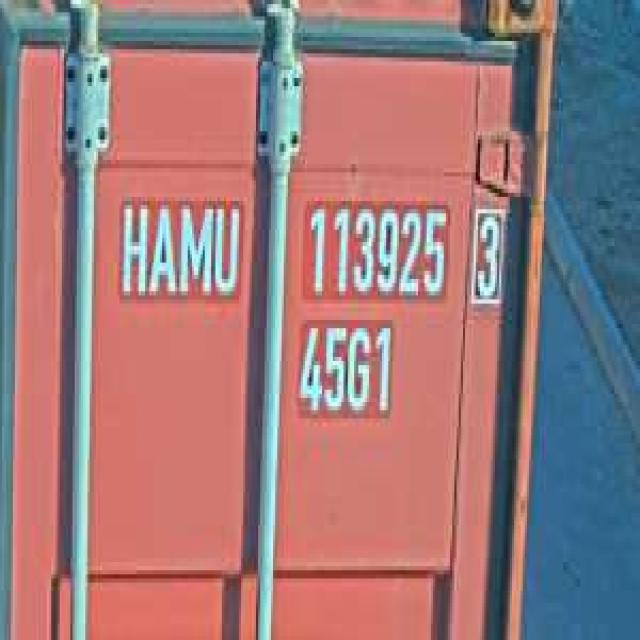dv: (467, 197, 508, 312)
owner: (116, 193, 246, 308)
serial: (299, 193, 452, 308)
size: (292, 312, 397, 426)
